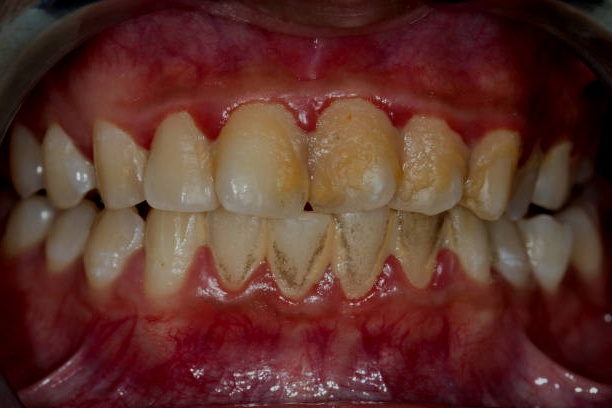Gingivitis: (101, 310, 475, 393), (378, 90, 421, 126), (291, 93, 327, 133)
